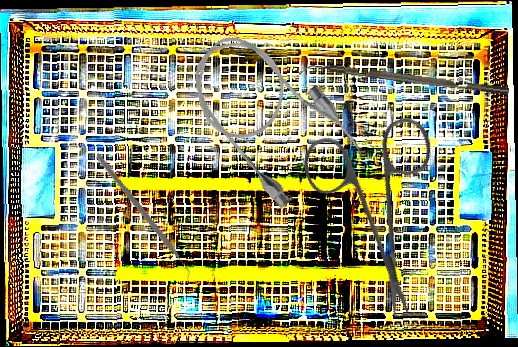Cannula: (171, 11, 371, 219)
Chopper: (65, 152, 219, 286), (298, 58, 510, 106)
Iris Scissors: (255, 78, 500, 323)
